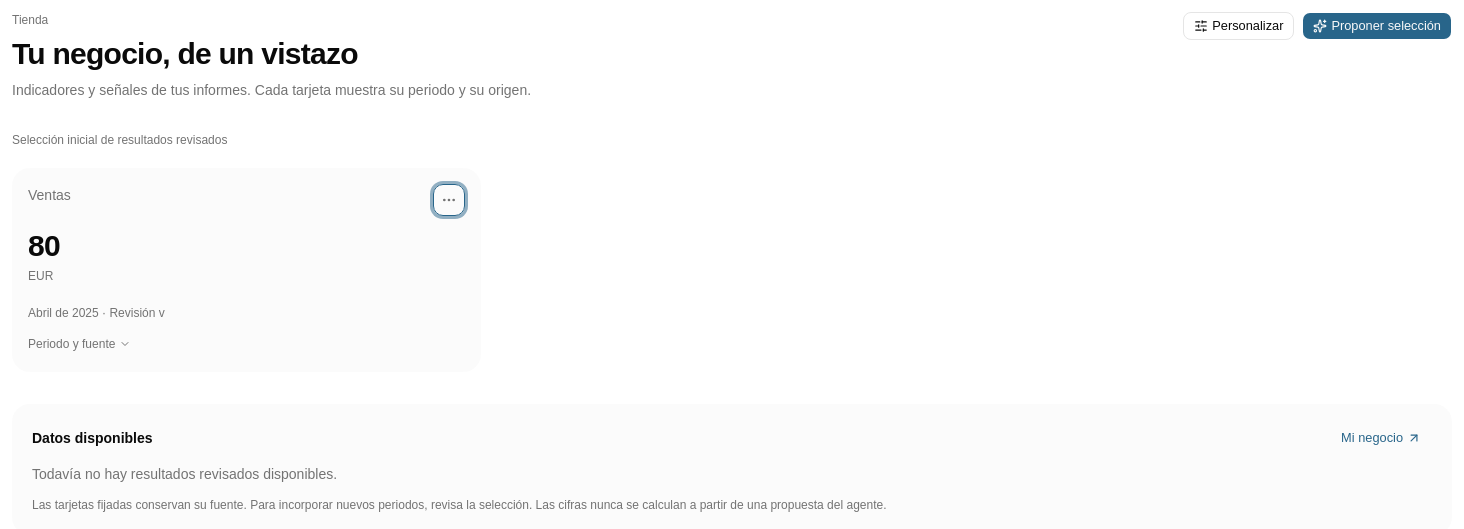
Scenario: opens card actions with the keyboard and preserves pinning behavior
This screenshot has width=1464, height=529.
Press Enter
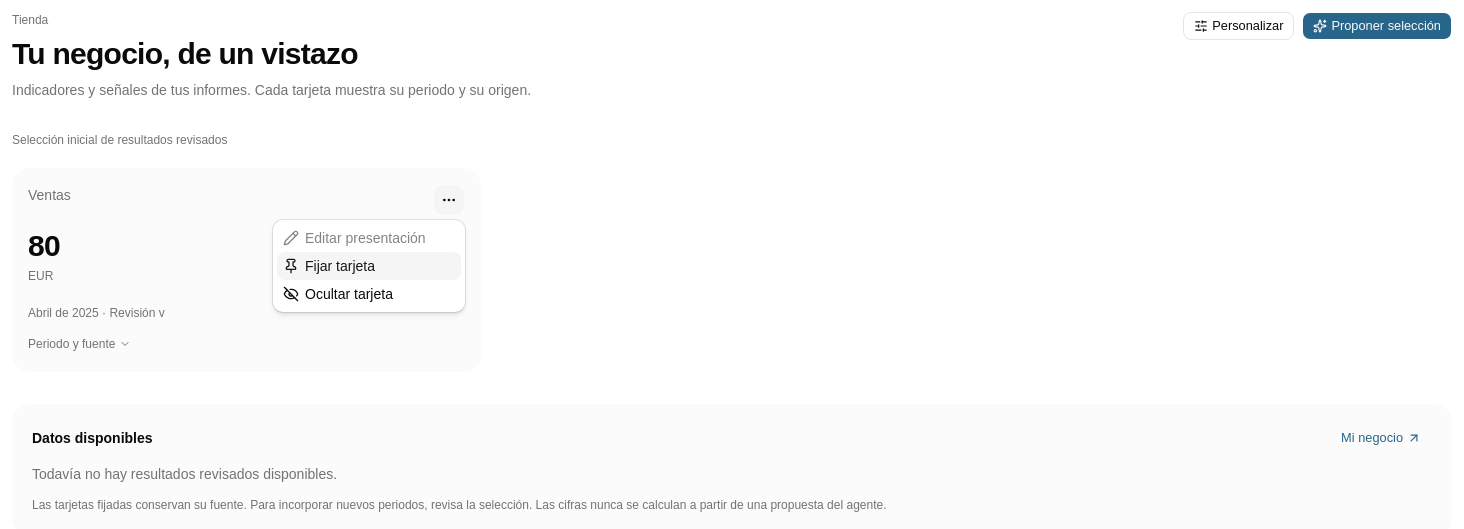
Now the menu item "Ocultar tarjeta" is shown, box top-left (283, 286), bottom-right (393, 302)
Click the menu item "Fijar tarjeta": (369, 266) top-left (277, 252), bottom-right (461, 280)
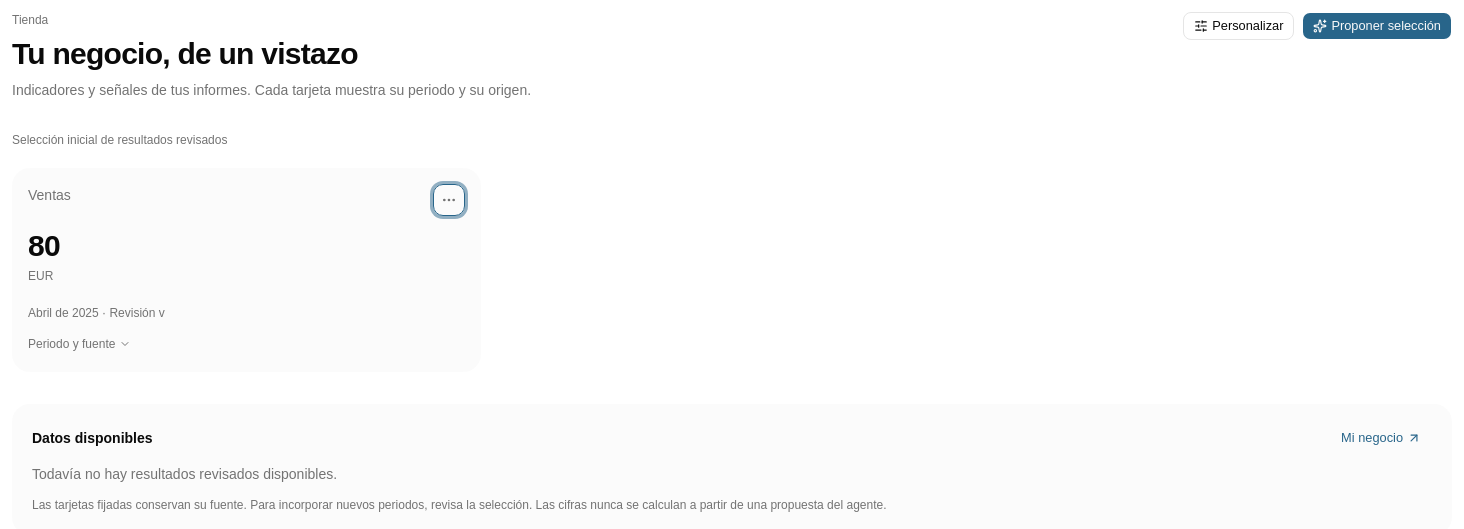
Click the button named "Opciones de Ventas": (449, 200) top-left (433, 184), bottom-right (465, 216)
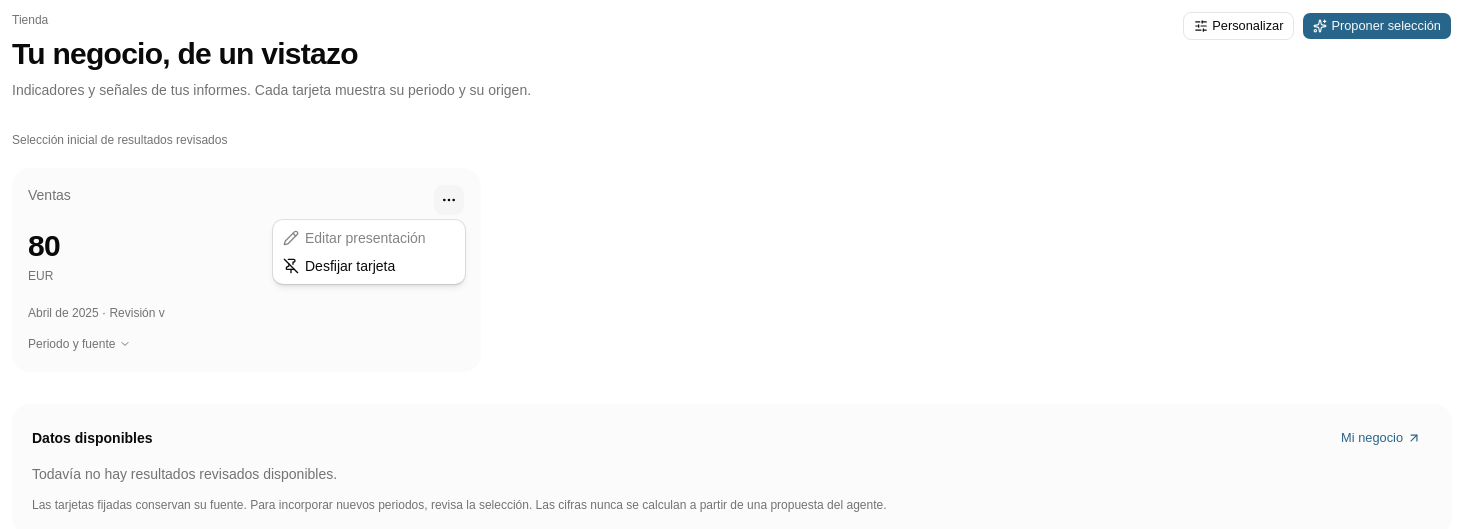
Expected: the menu item "Ocultar tarjeta" is not shown
Now the menu item "Desfijar tarjeta" is shown, box top-left (283, 258), bottom-right (395, 274)
